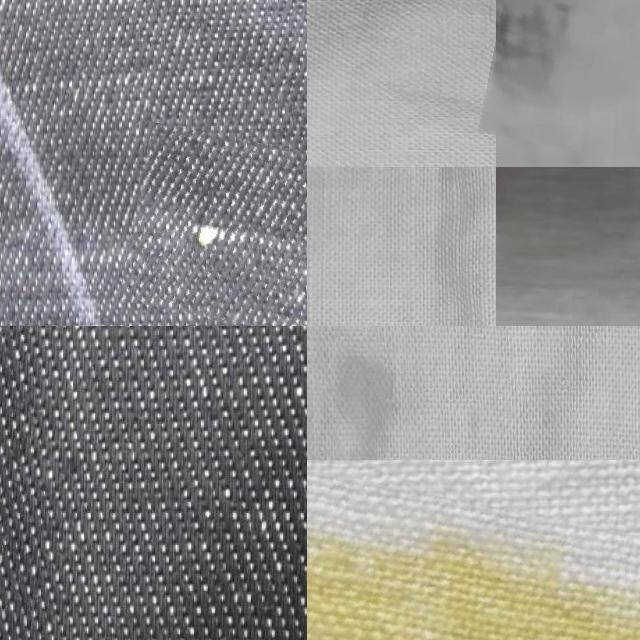Thread_other: (307, 483, 640, 640), (487, 0, 611, 147)
stains: (125, 139, 307, 326)
